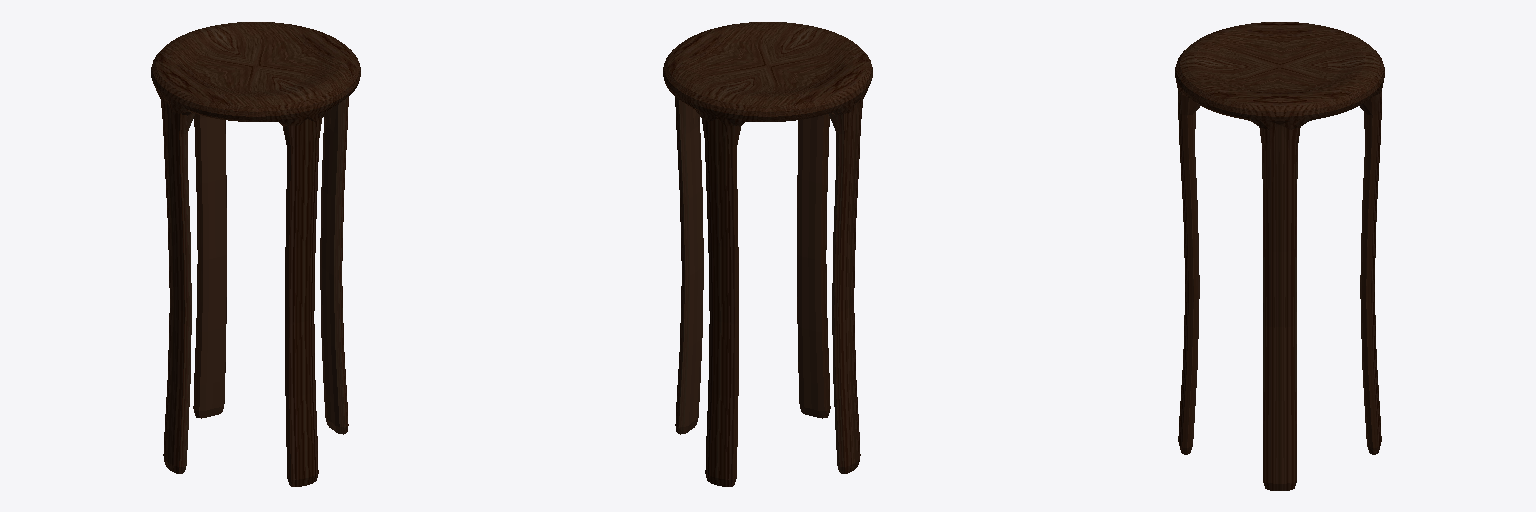
3 renders of one model, left to right at view 1: azimuth 30°, elevation 25°; view 2: azimuth 150°, elevation 25°; view 3: azimuth 270°, elevation 25°, orthographic.
Parts seen in each view (by area): view 1: Cylinder; view 2: Cylinder; view 3: Cylinder.
Boxes of the visible parts, <box> form: Cylinder: <box>151,22,360,486</box>; Cylinder: <box>663,22,872,486</box>; Cylinder: <box>1175,22,1384,490</box>.
Bounding box in the file's own units: 0.5352 × 1.1 × 0.5352.
Materials: 1 (1 with a texture image).